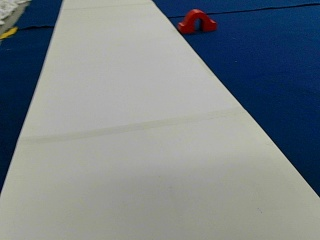bridge: (179, 9, 216, 31)
